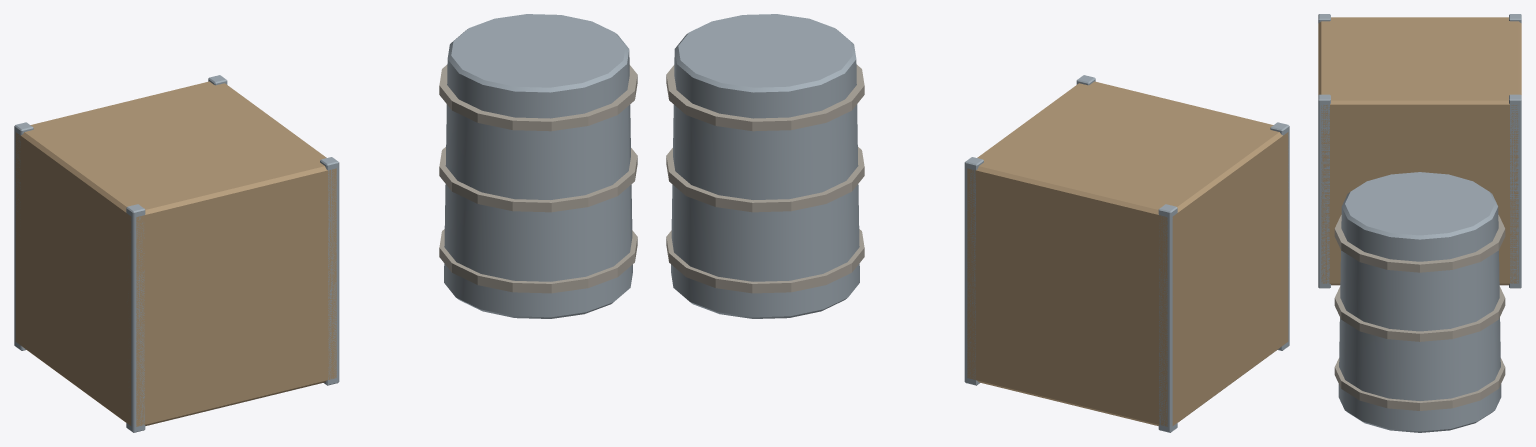
Rendered from sample_props.glb.
3 renders of one model, left to right at view 1: azimuth 30°, elevation 25°; view 2: azimuth 150°, elevation 25°; view 3: azimuth 270°, elevation 25°, orthographic. The views are drawn at different scales.
Visible parts, largest first — view 1: Crate, Barrel; view 2: Crate, Barrel; view 3: Barrel, Crate.
Boxes of the visible parts, left/top/right/bottom form: Crate: left=14, top=75, right=339, bottom=432; Barrel: left=439, top=14, right=637, bottom=318; Crate: left=964, top=75, right=1289, bottom=432; Barrel: left=666, top=14, right=864, bottom=318; Barrel: left=1334, top=172, right=1505, bottom=432; Crate: left=1318, top=14, right=1521, bottom=288.
Bounding box in the file's own units: 2.13 × 0.85 × 0.8.
